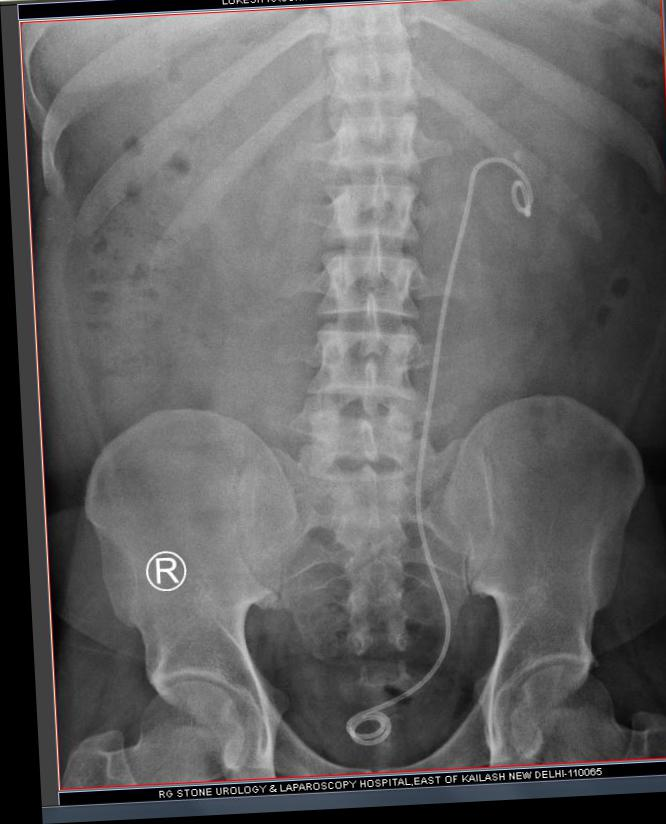bladder: (277, 648, 454, 774)
vertebrae: (321, 109, 422, 187)
